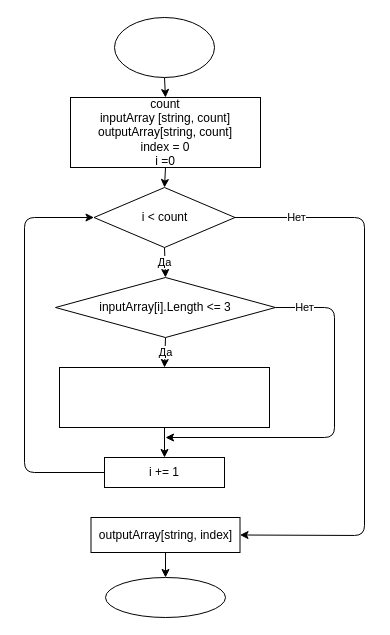
The diagram is 390 pixels wide and 635 high, and some of its shapes have lost their labels. Here are the shapes that lost their labels. From the top down, the centre of each, then its label:
(x=164, y=47): Начало
(x=164, y=397): outputArray[index] = inputArrau[i] index += 1
(x=165, y=597): Окончание
